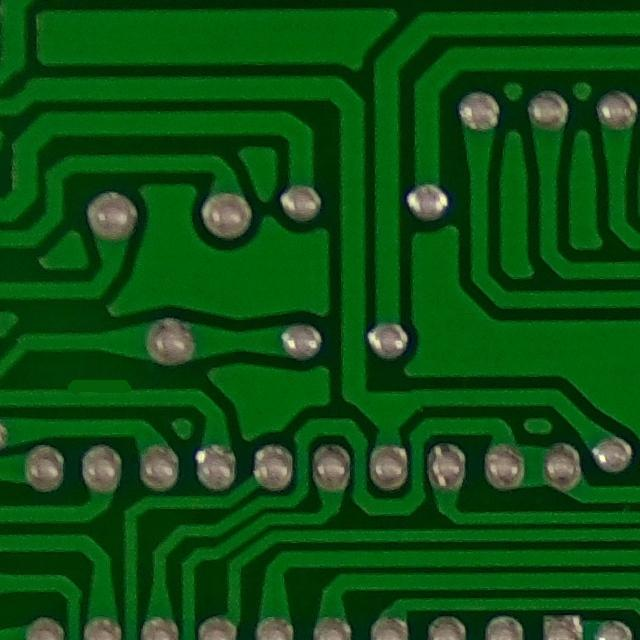spur: (53, 367, 148, 404)
